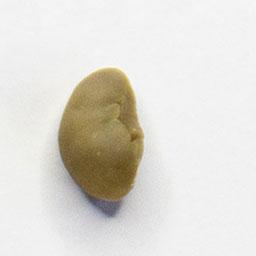peaberry: (55, 62, 148, 207)
